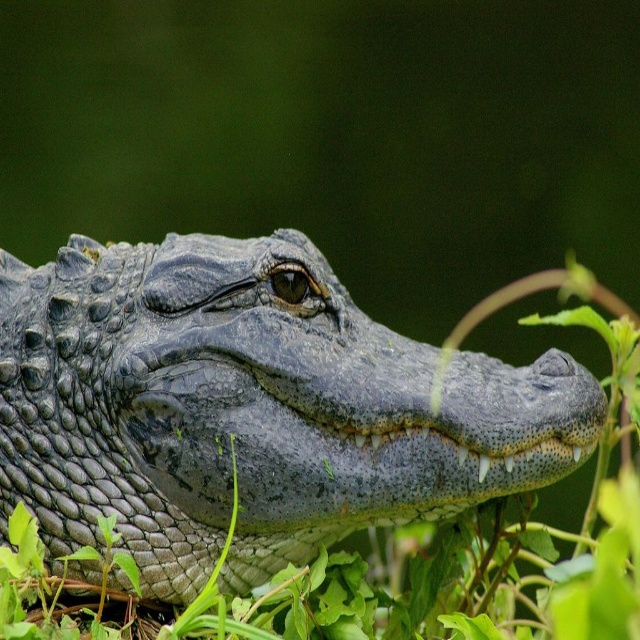Crocodile: (0, 229, 608, 606)
